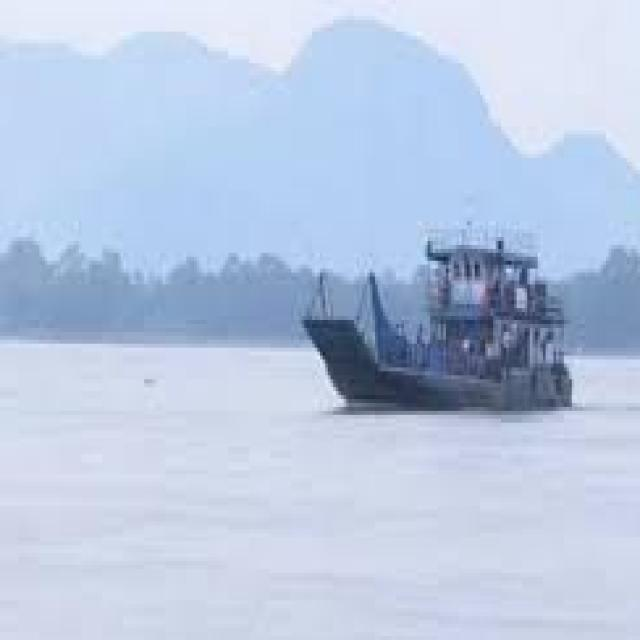fishing boat: (274, 225, 568, 412)
